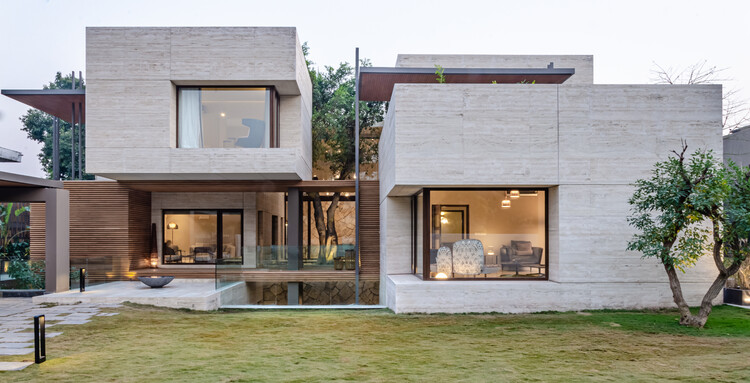Window: (426, 188, 549, 280), (176, 85, 281, 148), (160, 210, 245, 265)
